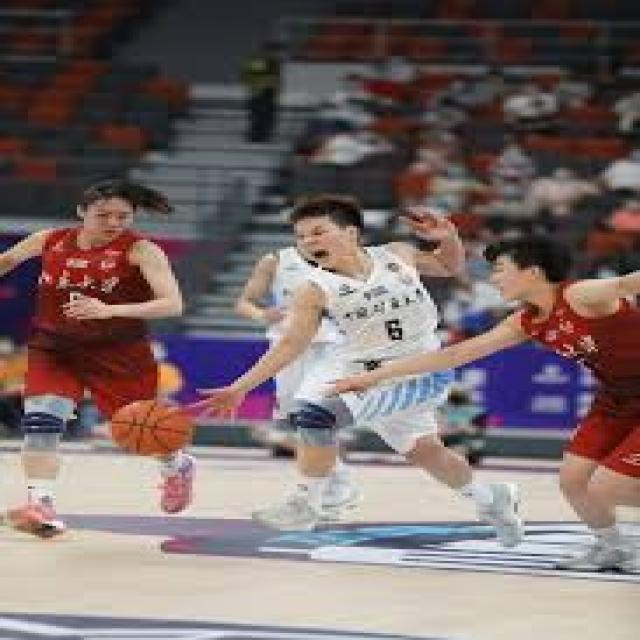rim: (116, 398, 192, 451)
